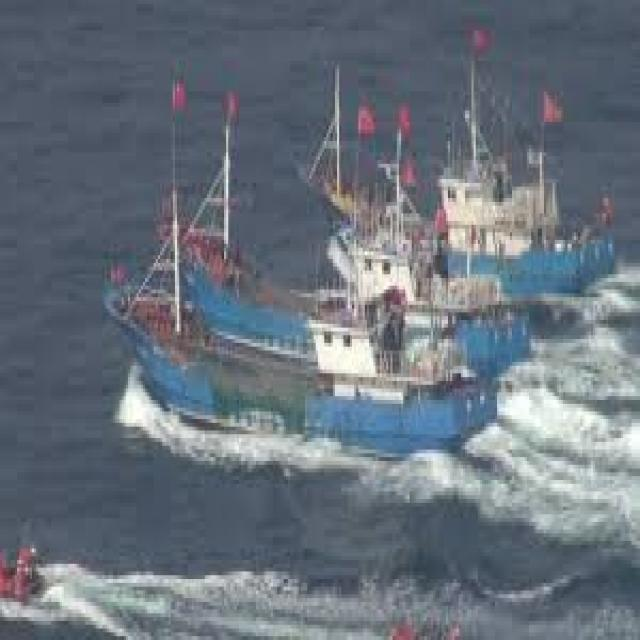Ship: (308, 9, 635, 322), (91, 260, 514, 477)
